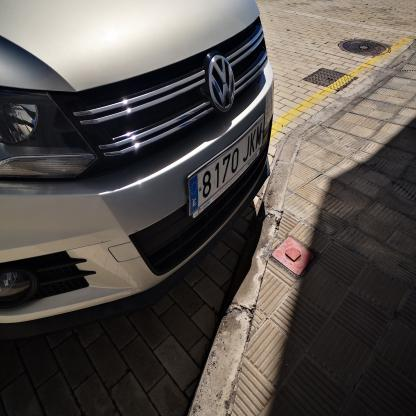patente: (194, 115, 265, 214)
